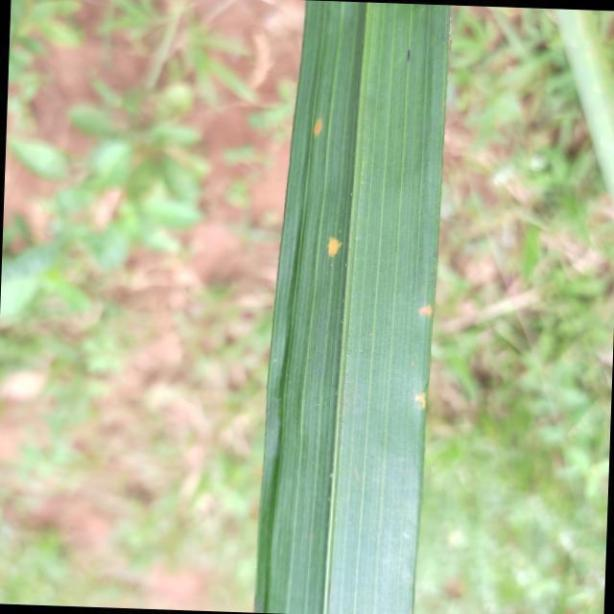Kalium: (253, 0, 449, 614)
